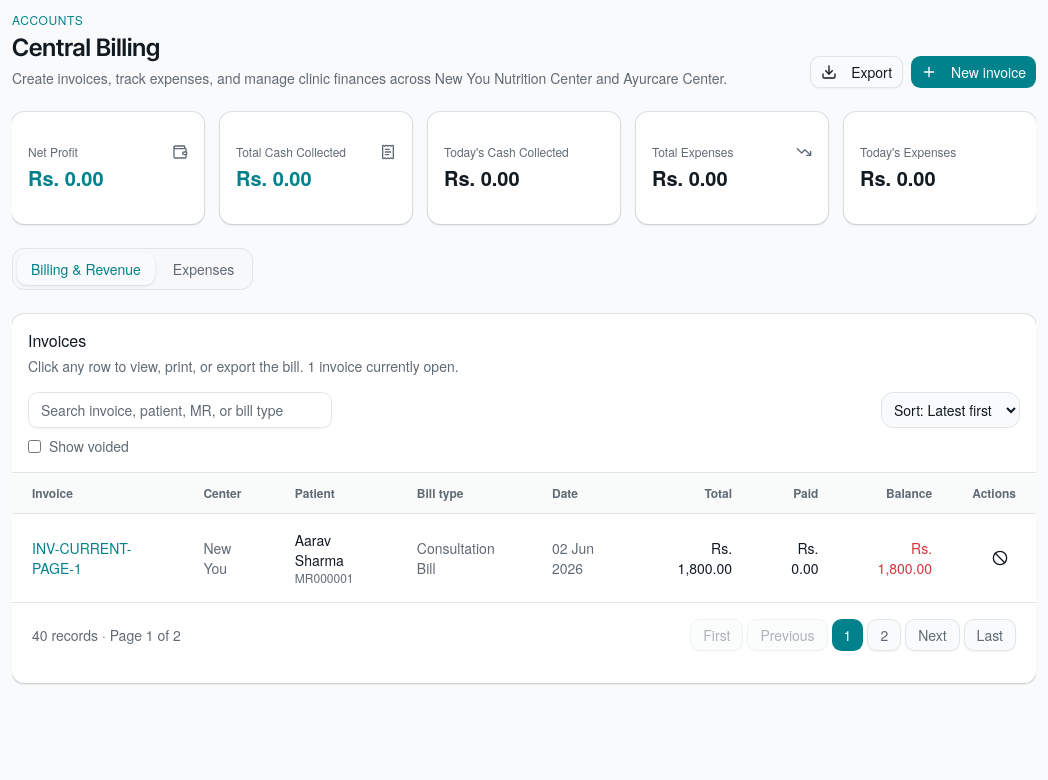
BillingWorkspace › ignores a stale invoice-page response after a newer page request
Check: the text "INV-CURRENT-PAGE-1" is shown, box [32, 538, 132, 578]
Click the button "Next": point(932, 635) [905, 619, 960, 651]
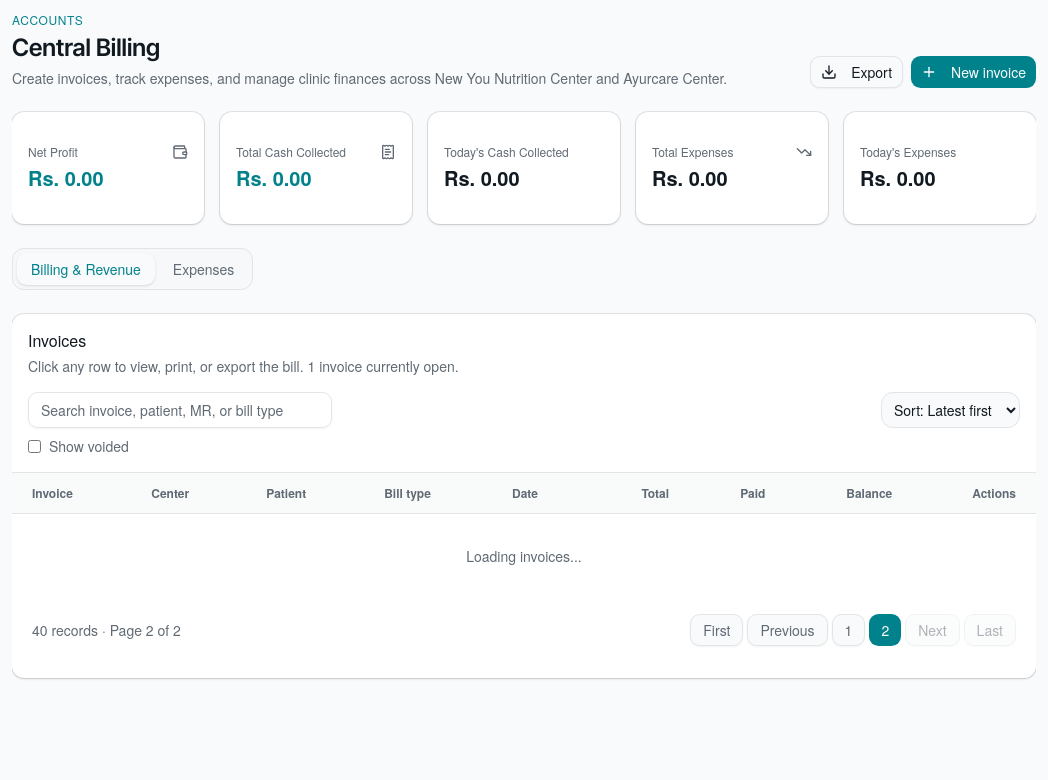
Click the button "Previous": point(788, 630) [748, 614, 828, 646]
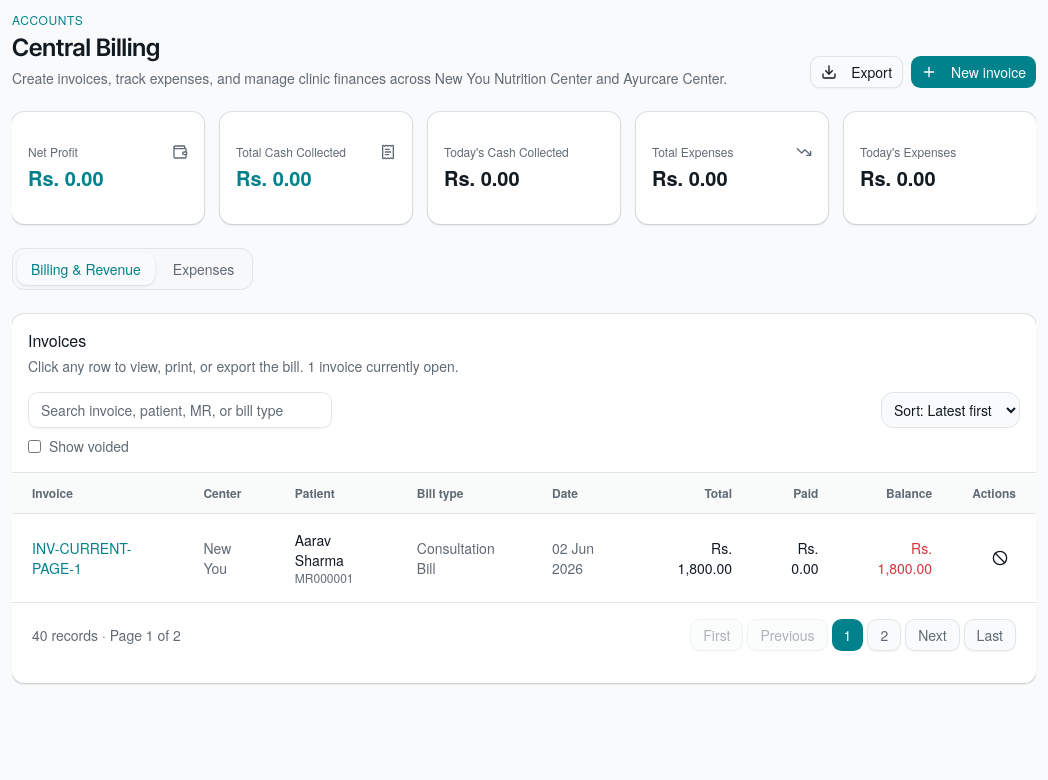
Check: the text "INV-CURRENT-PAGE-1" is shown, box [32, 538, 132, 578]
